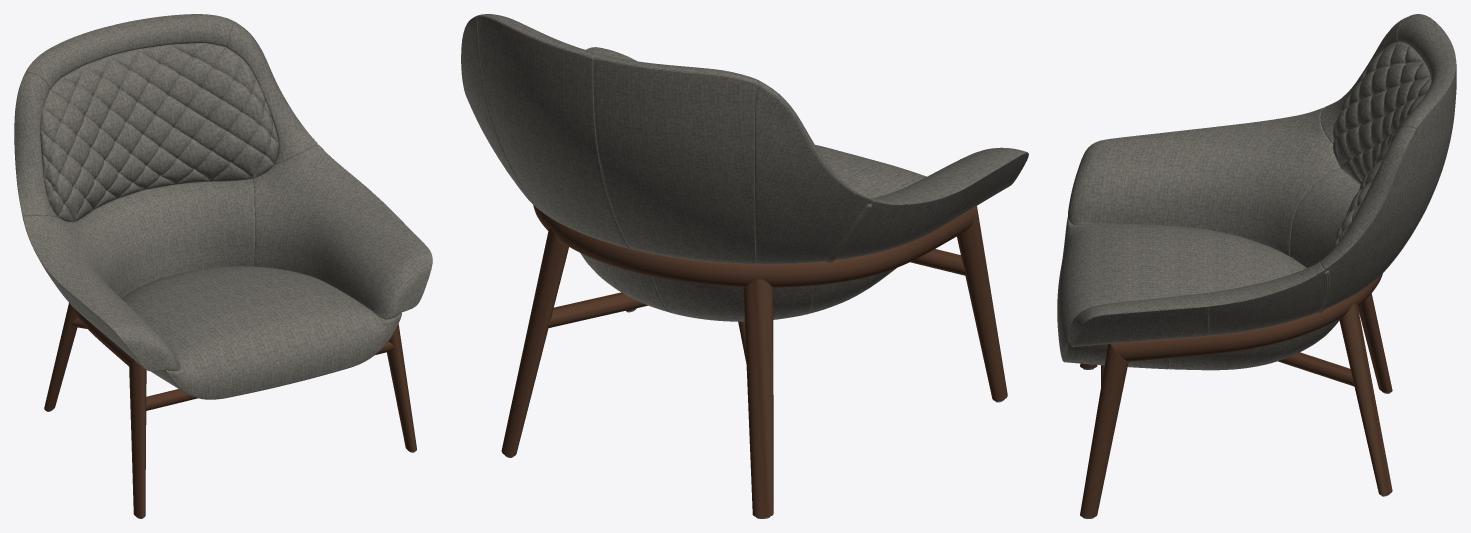
File: armchair.glb
The picture shows the model from 3 angles, left to right: view 1: azimuth 30°, elevation 25°; view 2: azimuth 150°, elevation 25°; view 3: azimuth 270°, elevation 25°; orthographic projection. The views are drawn at different scales.
Parts seen in each view (by area): view 1: Material-Imbottito, Material-Legno; view 2: Material-Imbottito, Material-Legno; view 3: Material-Imbottito, Material-Legno.
Part boxes in pixels (bbox=[...]): Material-Imbottito: bbox=[14, 14, 432, 399]; Material-Legno: bbox=[44, 303, 416, 517]; Material-Imbottito: bbox=[461, 14, 1028, 321]; Material-Legno: bbox=[501, 205, 1007, 517]; Material-Imbottito: bbox=[1057, 14, 1456, 370]; Material-Legno: bbox=[1080, 273, 1392, 517].
Size of the model in its own units: 1.6 by 1.59 by 1.51.
Materials: 3 (2 with a texture image).
